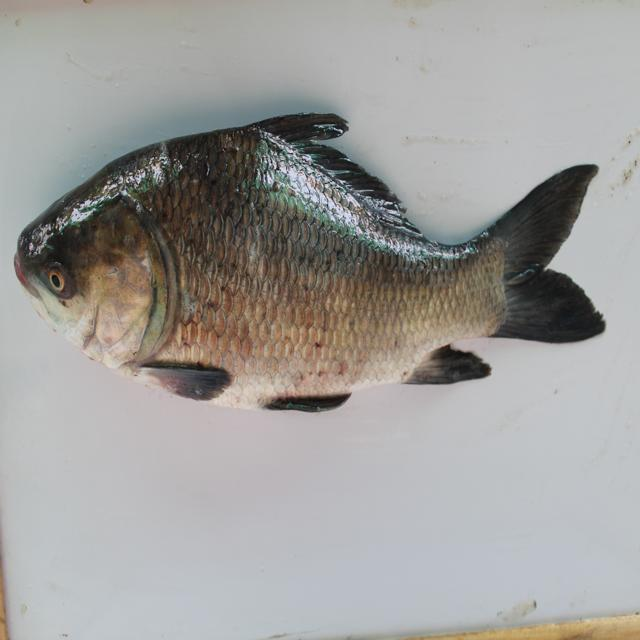Catla: (9, 110, 611, 420)
